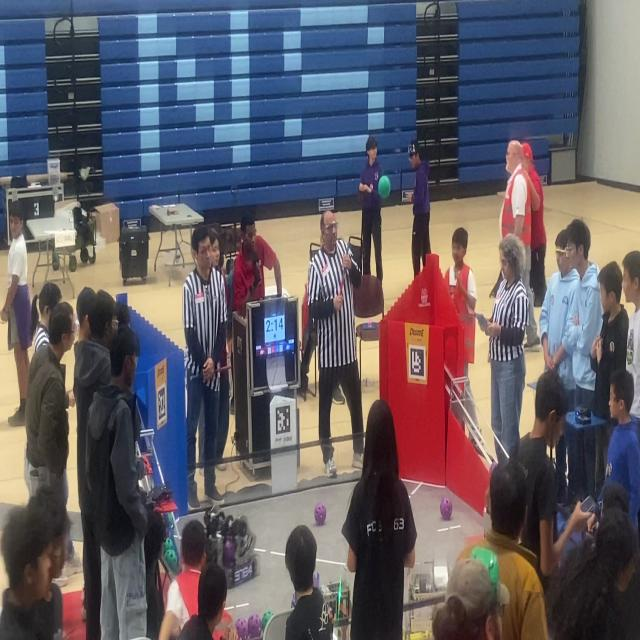artifact_purple: (223, 540, 235, 567), (248, 614, 261, 638), (378, 176, 391, 198), (440, 498, 452, 520), (315, 503, 326, 526), (236, 619, 248, 639), (262, 611, 273, 629), (313, 571, 321, 589), (489, 461, 498, 474)
